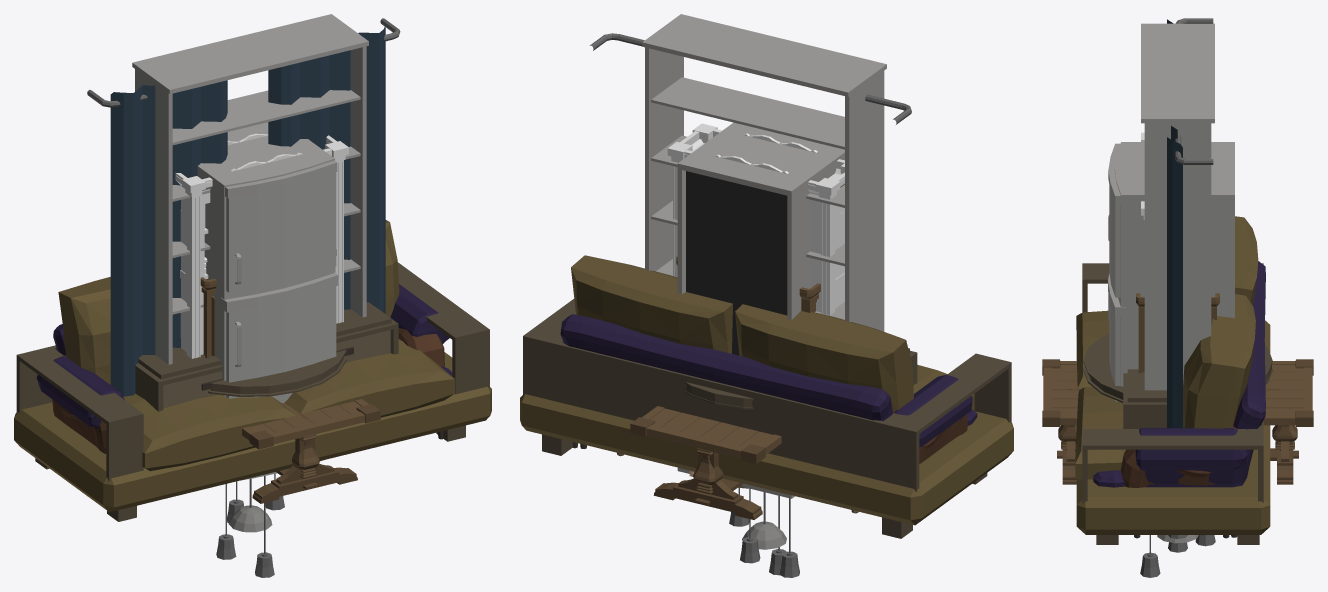
File: meubels.glb
The picture shows the model from 3 angles, left to right: view 1: azimuth 30°, elevation 25°; view 2: azimuth 150°, elevation 25°; view 3: azimuth 270°, elevation 25°; orthographic projection. The views are drawn at different scales.
Visible parts, largest first — view 1: Couch_Medium2, Curtains_Double, Kitchen_Fridge, Bookshelf, Drawer_1, Bookcase_Books, Table, Sofa, Table_RoundSmall, Sofa2, Table2, Light_Ceiling4 (+2 smaller); view 2: Couch_Medium2, Bookshelf, Kitchen_Fridge, Sofa, Table, Bookcase_Books, Table2, Light_Ceiling4, Table_RoundSmall, Light_Ceiling1, Curtains_Double, Sofa2; view 3: Couch_Medium2, Bookshelf, Kitchen_Fridge, Sofa, Table, Curtains_Double, Drawer_1, Table_RoundSmall, Table2, Sofa2, Light_Ceiling4, ShortCloset.
Part boxes in pixels (x1,y1,x2,y2): Couch_Medium2: (14, 220, 491, 521); Curtains_Double: (87, 18, 400, 396); Kitchen_Fridge: (197, 122, 338, 480); Bookshelf: (132, 14, 368, 364); Drawer_1: (135, 302, 398, 411); Bookcase_Books: (175, 133, 348, 358); Table: (242, 399, 380, 503); Sofa: (36, 284, 452, 439); Table_RoundSmall: (208, 350, 346, 396); Sofa2: (52, 328, 444, 453); Table2: (242, 400, 367, 501); Light_Ceiling4: (216, 474, 284, 577); Couch_Medium2: (520, 255, 1013, 538); Bookshelf: (642, 14, 886, 331); Kitchen_Fridge: (677, 122, 844, 498); Sofa: (560, 314, 977, 448); Table: (630, 406, 781, 519); Bookcase_Books: (667, 123, 844, 315); Table2: (645, 406, 781, 519); Light_Ceiling4: (729, 488, 799, 577); Table_RoundSmall: (685, 382, 753, 488); Light_Ceiling1: (742, 492, 786, 549); Curtains_Double: (589, 33, 911, 124); Sofa2: (580, 412, 967, 463); Couch_Medium2: (1075, 216, 1270, 544); Bookshelf: (1141, 23, 1214, 390); Kitchen_Fridge: (1108, 142, 1234, 401); Sofa: (1093, 261, 1265, 537); Table: (1042, 359, 1313, 484); Curtains_Double: (1167, 18, 1213, 427); Drawer_1: (1123, 369, 1166, 428); Table_RoundSmall: (1083, 333, 1272, 402); Table2: (1052, 361, 1303, 479); Sofa2: (1120, 426, 1236, 538); Light_Ceiling4: (1140, 535, 1215, 577); ShortCloset: (1136, 293, 1219, 373).
Size of the model in its own units: 4.52 by 5.71 by 2.78.
